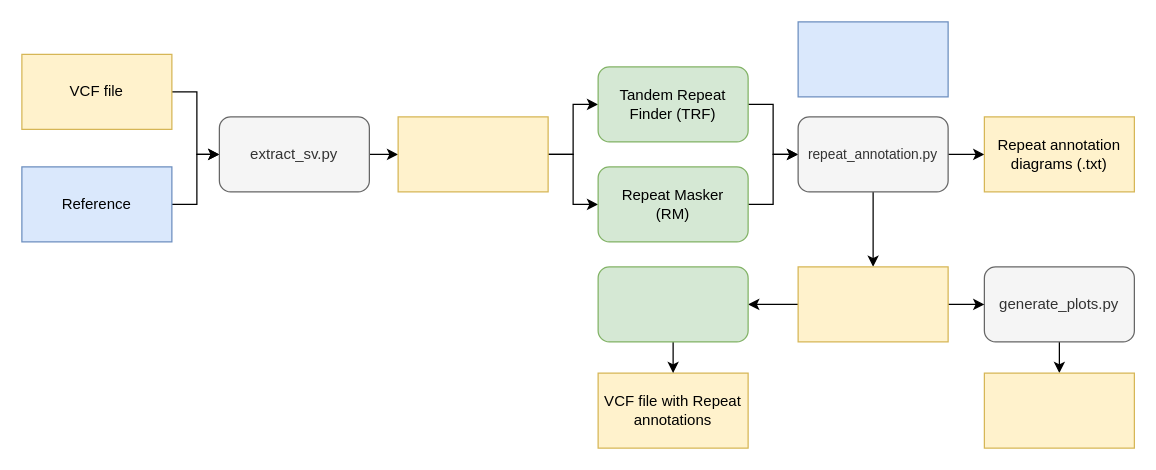
The diagram is 1156 pixels wide and 470 high, and some of its shapes have lost their labels. Each missing label, with the centre of its shape:
"Bcftools, Bgzip, Tabix" goes at [672,304].
"Repeat annotations (.tsv)" goes at [872,304].
"Repeat/SV distribution plots (.pdf)" goes at [1058,410].
"STRchive bed file (optional)" goes at [872,59].
"SVs with flanking sequences (.fa)" goes at [472,154].
